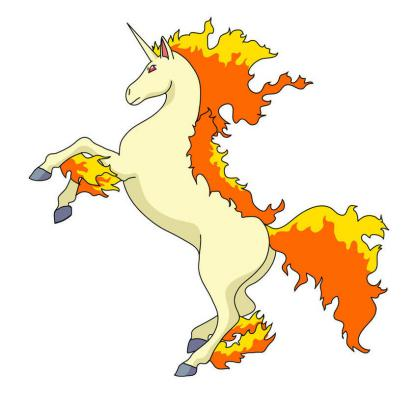Rapidash: (41, 20, 400, 387)
